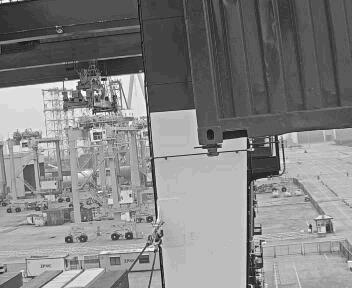twist_lock_1: (181, 144, 207, 163)
